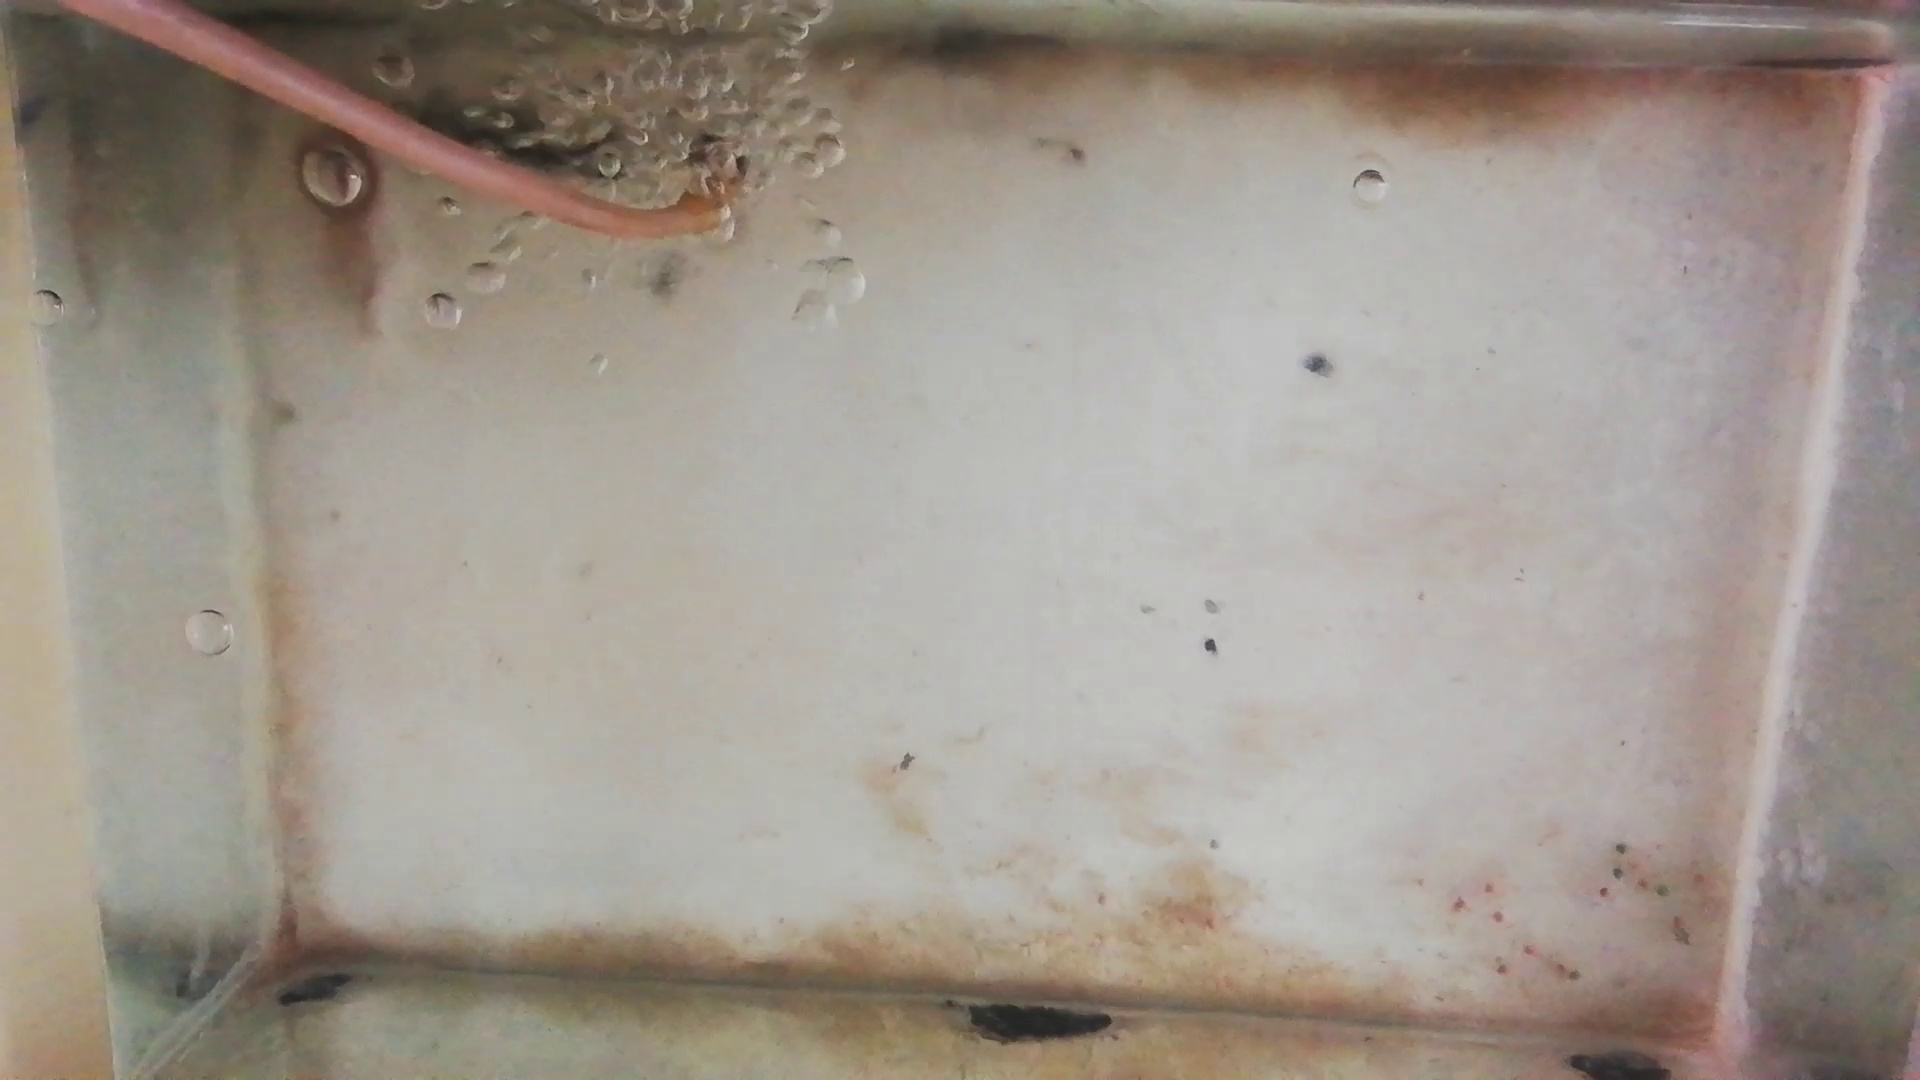fish: (307, 128, 385, 328), (413, 98, 624, 169)
